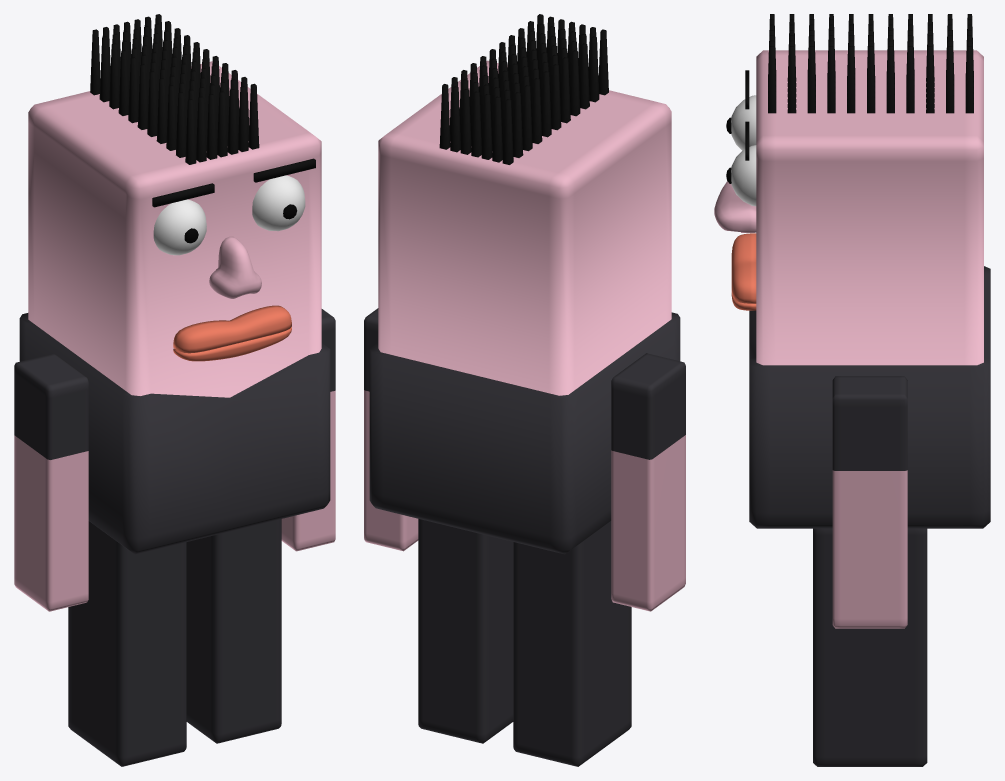
File: ziomal.fbx
3 views of the same model, side by side, from view 1: azimuth 30°, elevation 25°; view 2: azimuth 150°, elevation 25°; view 3: azimuth 270°, elevation 25° (orthographic). The views are drawn at different scales.
Visible parts, largest first — view 1: body, leg_right, leg_left, arm_right, Cube.002, arm_right.001, mouth_higher, eye1, eye2, nose, mouth_lower, brew1 (+1 smaller); view 2: body, leg_right, leg_left, arm_right, Cube.002, arm_right.001; view 3: body, leg_left, arm_right.001, Cube.002, mouth_higher, nose, eye2, eye1.
Boxes of the visible parts, bbox=[...] form: body: bbox=[19, 61, 330, 554]; leg_right: bbox=[68, 521, 186, 766]; leg_left: bbox=[186, 519, 281, 743]; arm_right: bbox=[14, 353, 88, 611]; Cube.002: bbox=[90, 14, 259, 164]; arm_right.001: bbox=[281, 309, 335, 551]; mouth_higher: bbox=[173, 305, 291, 353]; eye1: bbox=[153, 199, 206, 255]; eye2: bbox=[252, 175, 305, 231]; nose: bbox=[209, 236, 261, 298]; mouth_lower: bbox=[173, 327, 291, 361]; brew1: bbox=[152, 183, 214, 207]; body: bbox=[369, 60, 680, 554]; leg_right: bbox=[513, 521, 631, 766]; leg_left: bbox=[418, 519, 513, 743]; arm_right: bbox=[611, 353, 685, 611]; Cube.002: bbox=[439, 14, 608, 164]; arm_right.001: bbox=[364, 308, 418, 551]; body: bbox=[749, 50, 990, 528]; leg_left: bbox=[813, 528, 927, 766]; arm_right.001: bbox=[832, 376, 907, 628]; Cube.002: bbox=[768, 14, 973, 113]; mouth_higher: bbox=[731, 233, 756, 303]; nose: bbox=[714, 181, 756, 232]; eye2: bbox=[731, 145, 756, 206]; eye1: bbox=[731, 95, 756, 150].
Bounding box in the file's own units: 87.34 × 194 × 69.92.
